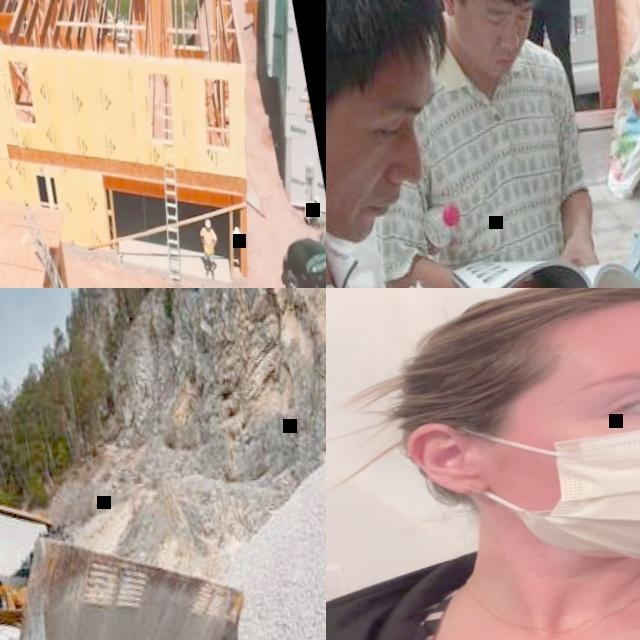Hardhat: (204, 219, 211, 229), (313, 197, 319, 205)
Mask: (456, 375, 640, 587)
NO-Hardhat: (380, 288, 640, 398), (326, 0, 455, 115)
NO-Mask: (326, 141, 429, 256), (451, 11, 519, 85), (205, 229, 209, 233)
NO-Safety Vest: (397, 37, 606, 288), (326, 520, 640, 640), (303, 202, 316, 218)
Person: (326, 288, 640, 640), (326, 0, 638, 288), (326, 0, 521, 288), (493, 0, 610, 113), (196, 218, 223, 283), (302, 198, 323, 229)
Safety Vest: (201, 229, 215, 252)
machinery: (0, 455, 298, 640)
vehicle: (516, 0, 624, 101), (273, 232, 326, 288)
